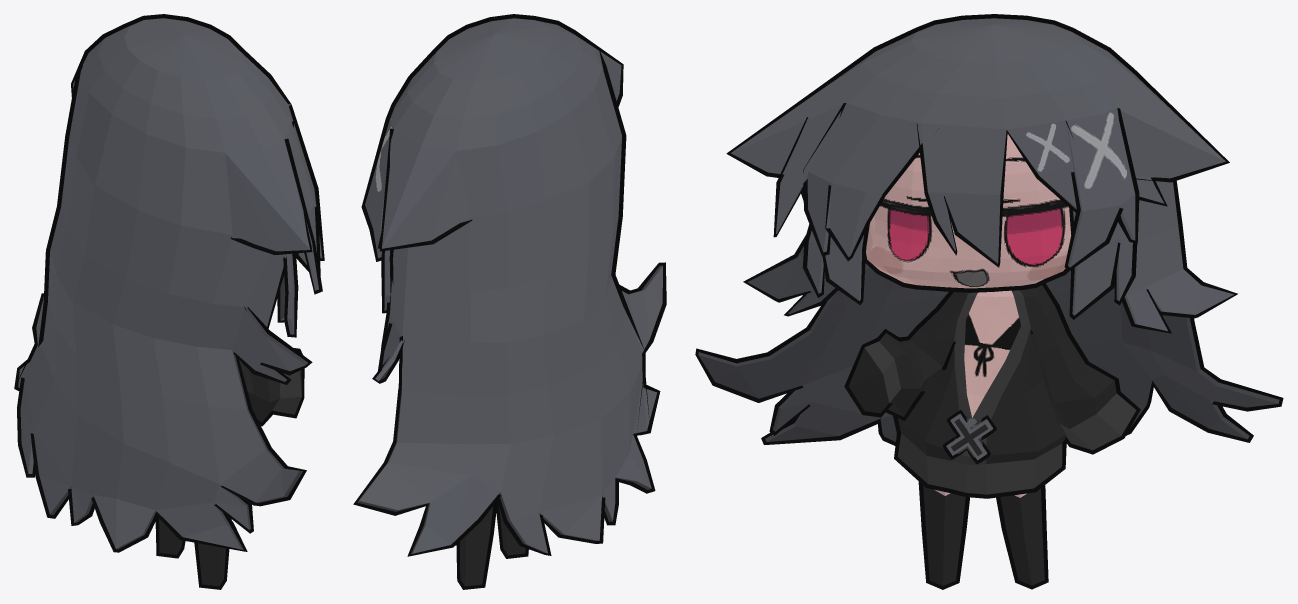
File: chibi_yste.glb
3 renders of one model, left to right at view 1: azimuth 30°, elevation 25°; view 2: azimuth 150°, elevation 25°; view 3: azimuth 270°, elevation 25°, orthographic. The views are drawn at different scales.
Parts seen in each view (by area): view 1: Sphere.001; view 2: Sphere.001; view 3: Sphere.001.
Part boxes in pixels (x1,y1,x2,y2): Sphere.001: (14, 14, 324, 589); Sphere.001: (353, 14, 666, 589); Sphere.001: (695, 14, 1283, 589).
Bounding box in the file's own units: 1.06 × 2.55 × 2.43.
Materials: 2 (1 with a texture image).
